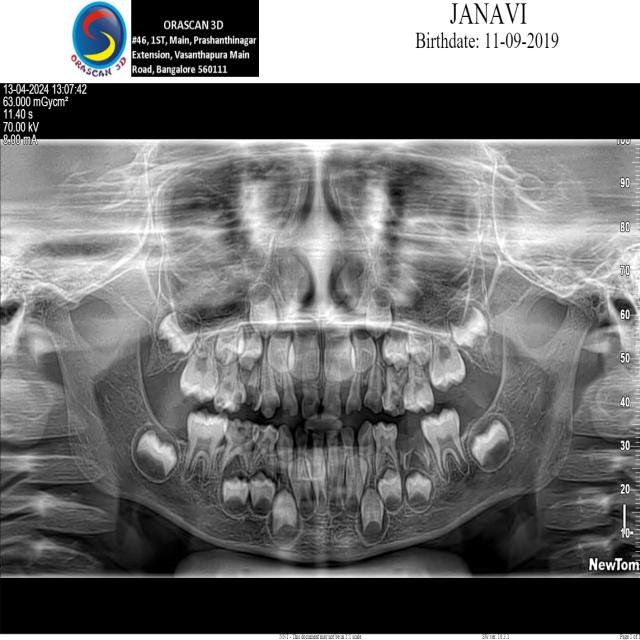Premolars: (370, 419, 404, 485)
